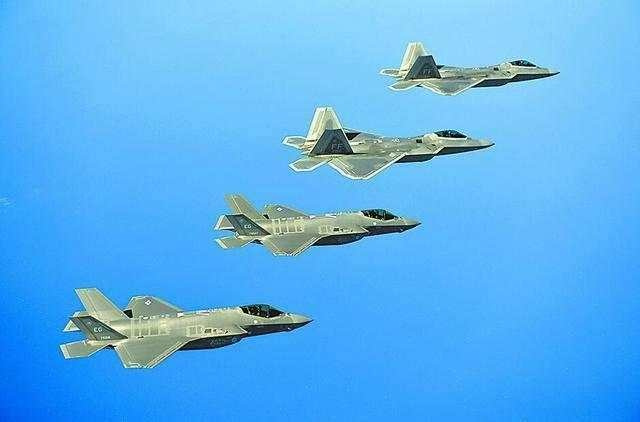airplane: (55, 276, 315, 366), (202, 180, 424, 261), (277, 104, 496, 181), (377, 38, 560, 99)
